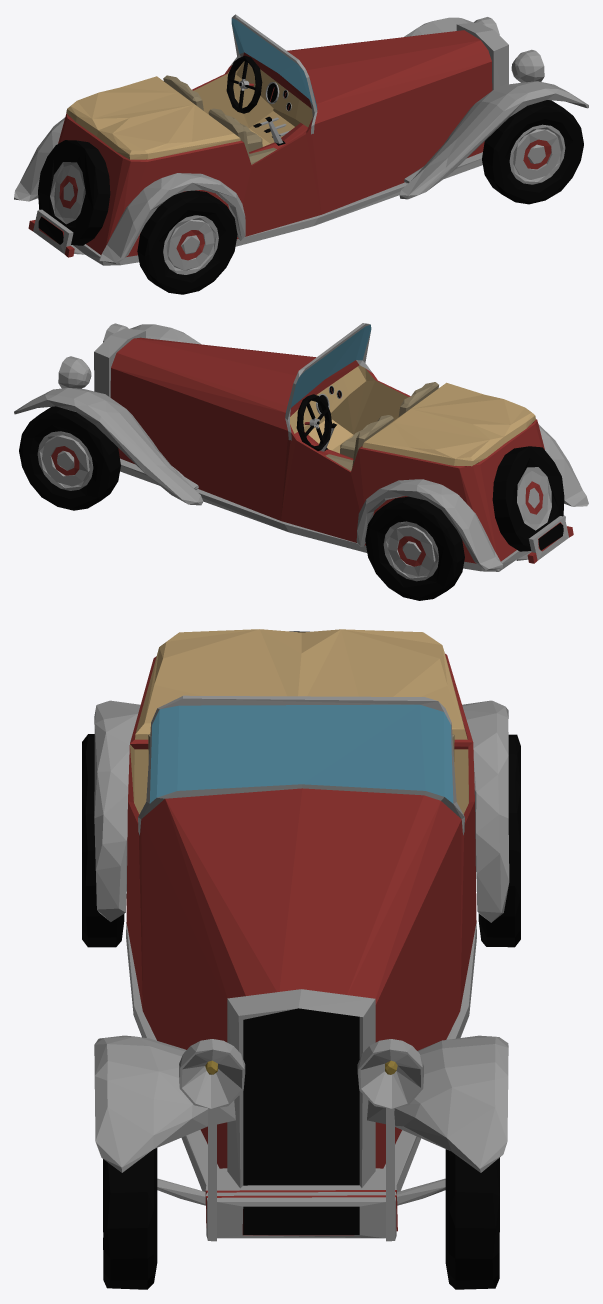
File: car1948.gltf
3 views of the same model, one above another, from view 1: azimuth 30°, elevation 25°; view 2: azimuth 150°, elevation 25°; view 3: azimuth 270°, elevation 25° (orthographic). The views are drawn at different scales.
Visible parts, largest first — view 1: HRG Sports car 1948; view 2: HRG Sports car 1948; view 3: HRG Sports car 1948.
Boxes of the visible parts, box(x1,y1,x2,y2) form: HRG Sports car 1948: box(14, 14, 588, 294); HRG Sports car 1948: box(14, 323, 588, 600); HRG Sports car 1948: box(82, 629, 520, 1289).
Size of the model in its own units: 5.71 by 2.02 by 2.19.
